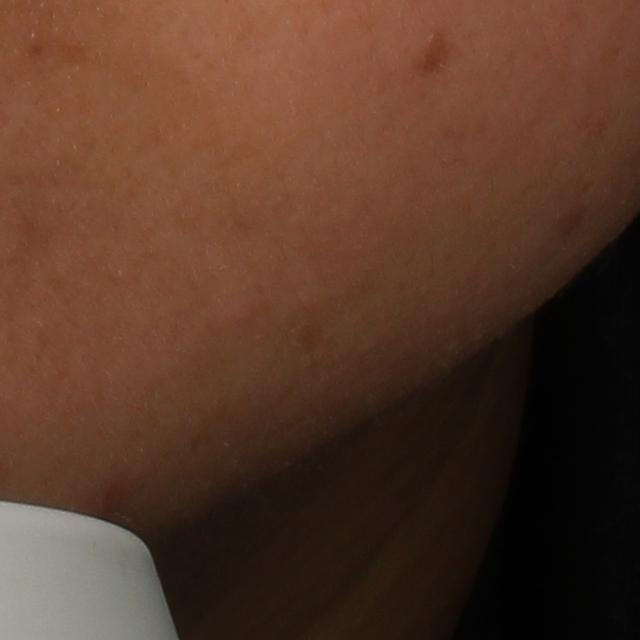nevus: (412, 24, 452, 77)
